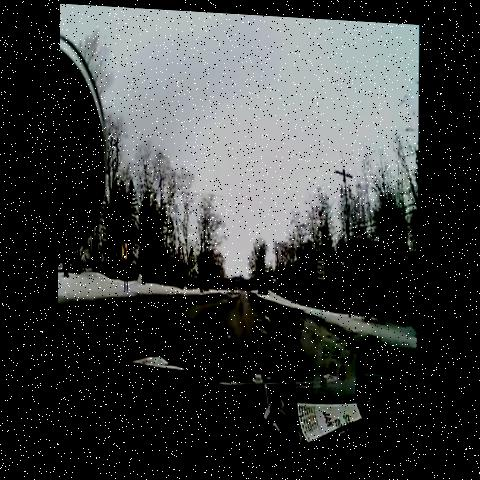pothole: (167, 336, 190, 360), (182, 318, 202, 341)
